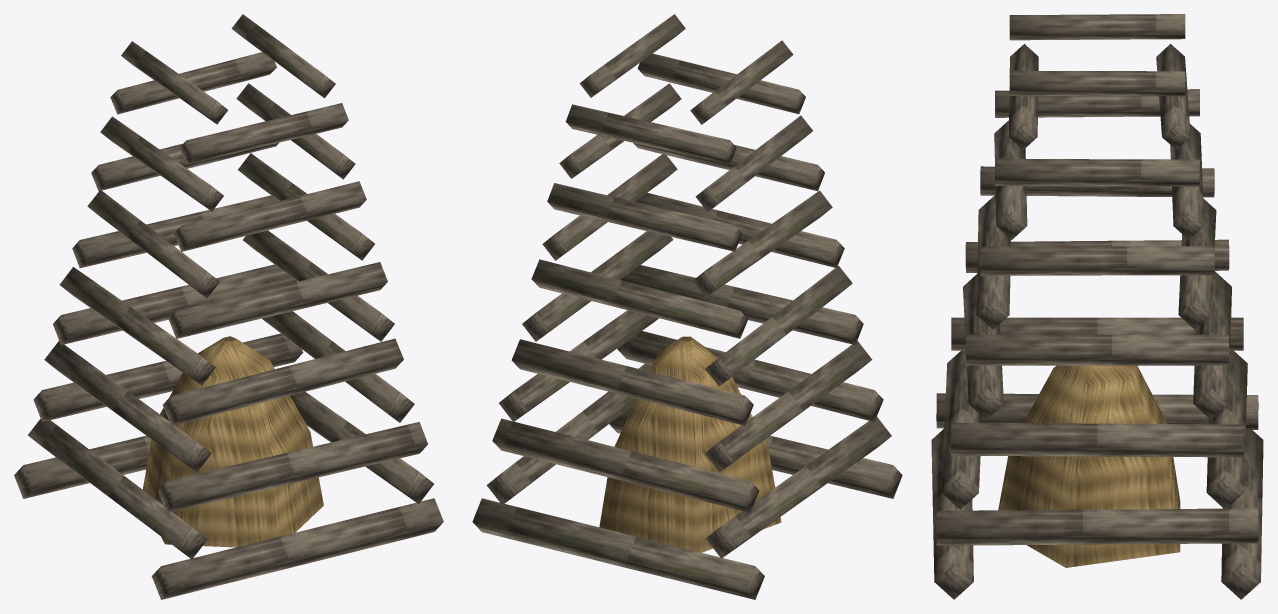
Rendered from Bonfire_Stack_1_LOD1.gltf.
The picture shows the model from 3 angles, left to right: view 1: azimuth 30°, elevation 25°; view 2: azimuth 150°, elevation 25°; view 3: azimuth 270°, elevation 25°; orthographic projection. The views are drawn at different scales.
Parts seen in each view (by area): view 1: Bonfire_Stack_1_LOD1; view 2: Bonfire_Stack_1_LOD1; view 3: Bonfire_Stack_1_LOD1.
Part boxes in pixels (x1,y1,x2,y2): Bonfire_Stack_1_LOD1: (14,14,443,599); Bonfire_Stack_1_LOD1: (472,14,902,599); Bonfire_Stack_1_LOD1: (931,14,1263,599).
Bounding box in the file's own units: 2.3 × 3.67 × 2.27.
2 materials, 2 textured.
